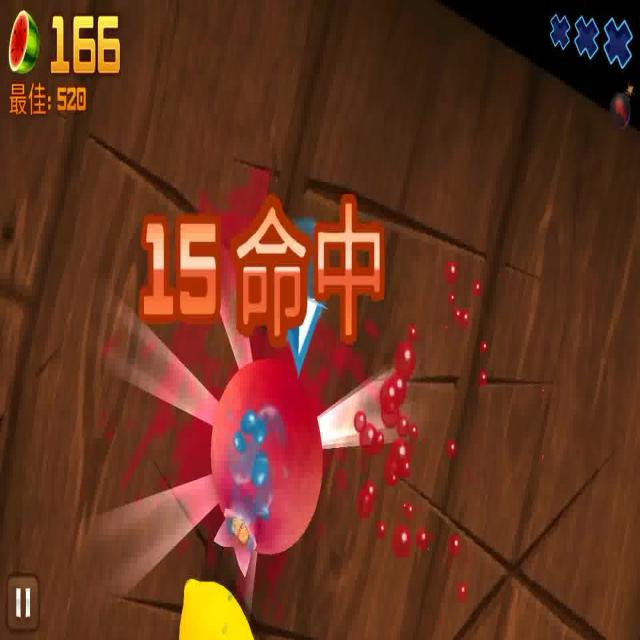fruit: (209, 356, 325, 550), (176, 576, 254, 640)
